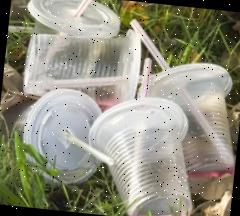general: (127, 17, 171, 70), (66, 132, 116, 167), (140, 56, 153, 99), (75, 0, 92, 15)
plastic: (142, 58, 239, 180), (22, 30, 142, 104)
